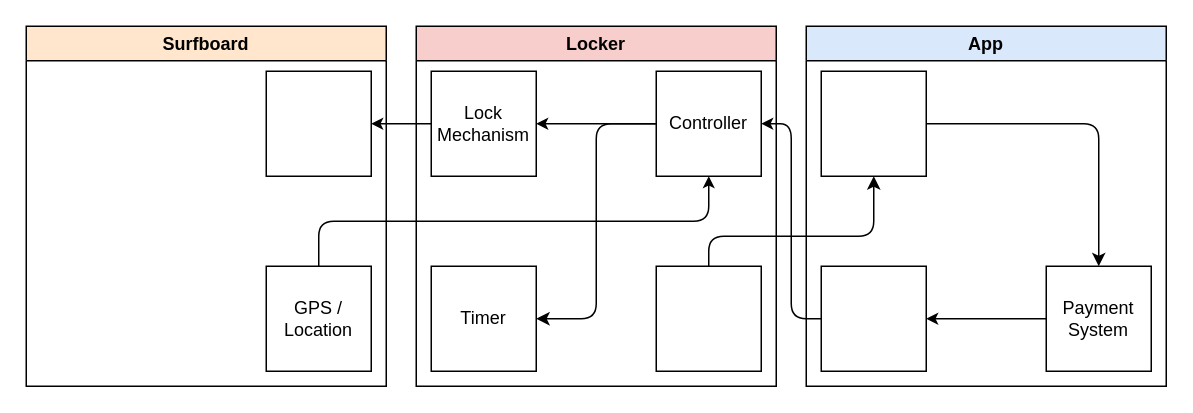
The diagram is 1193 pixels wide and 413 high, and some of its shapes have lost their labels. Each missing label, with the centre of its shape:
Anchor Point: point (318, 123)
Control Center: point (873, 318)
QR: point (708, 318)
Website / App: point (873, 123)
